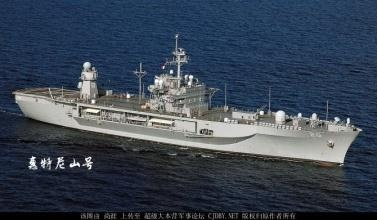warship: (9, 43, 364, 165)
